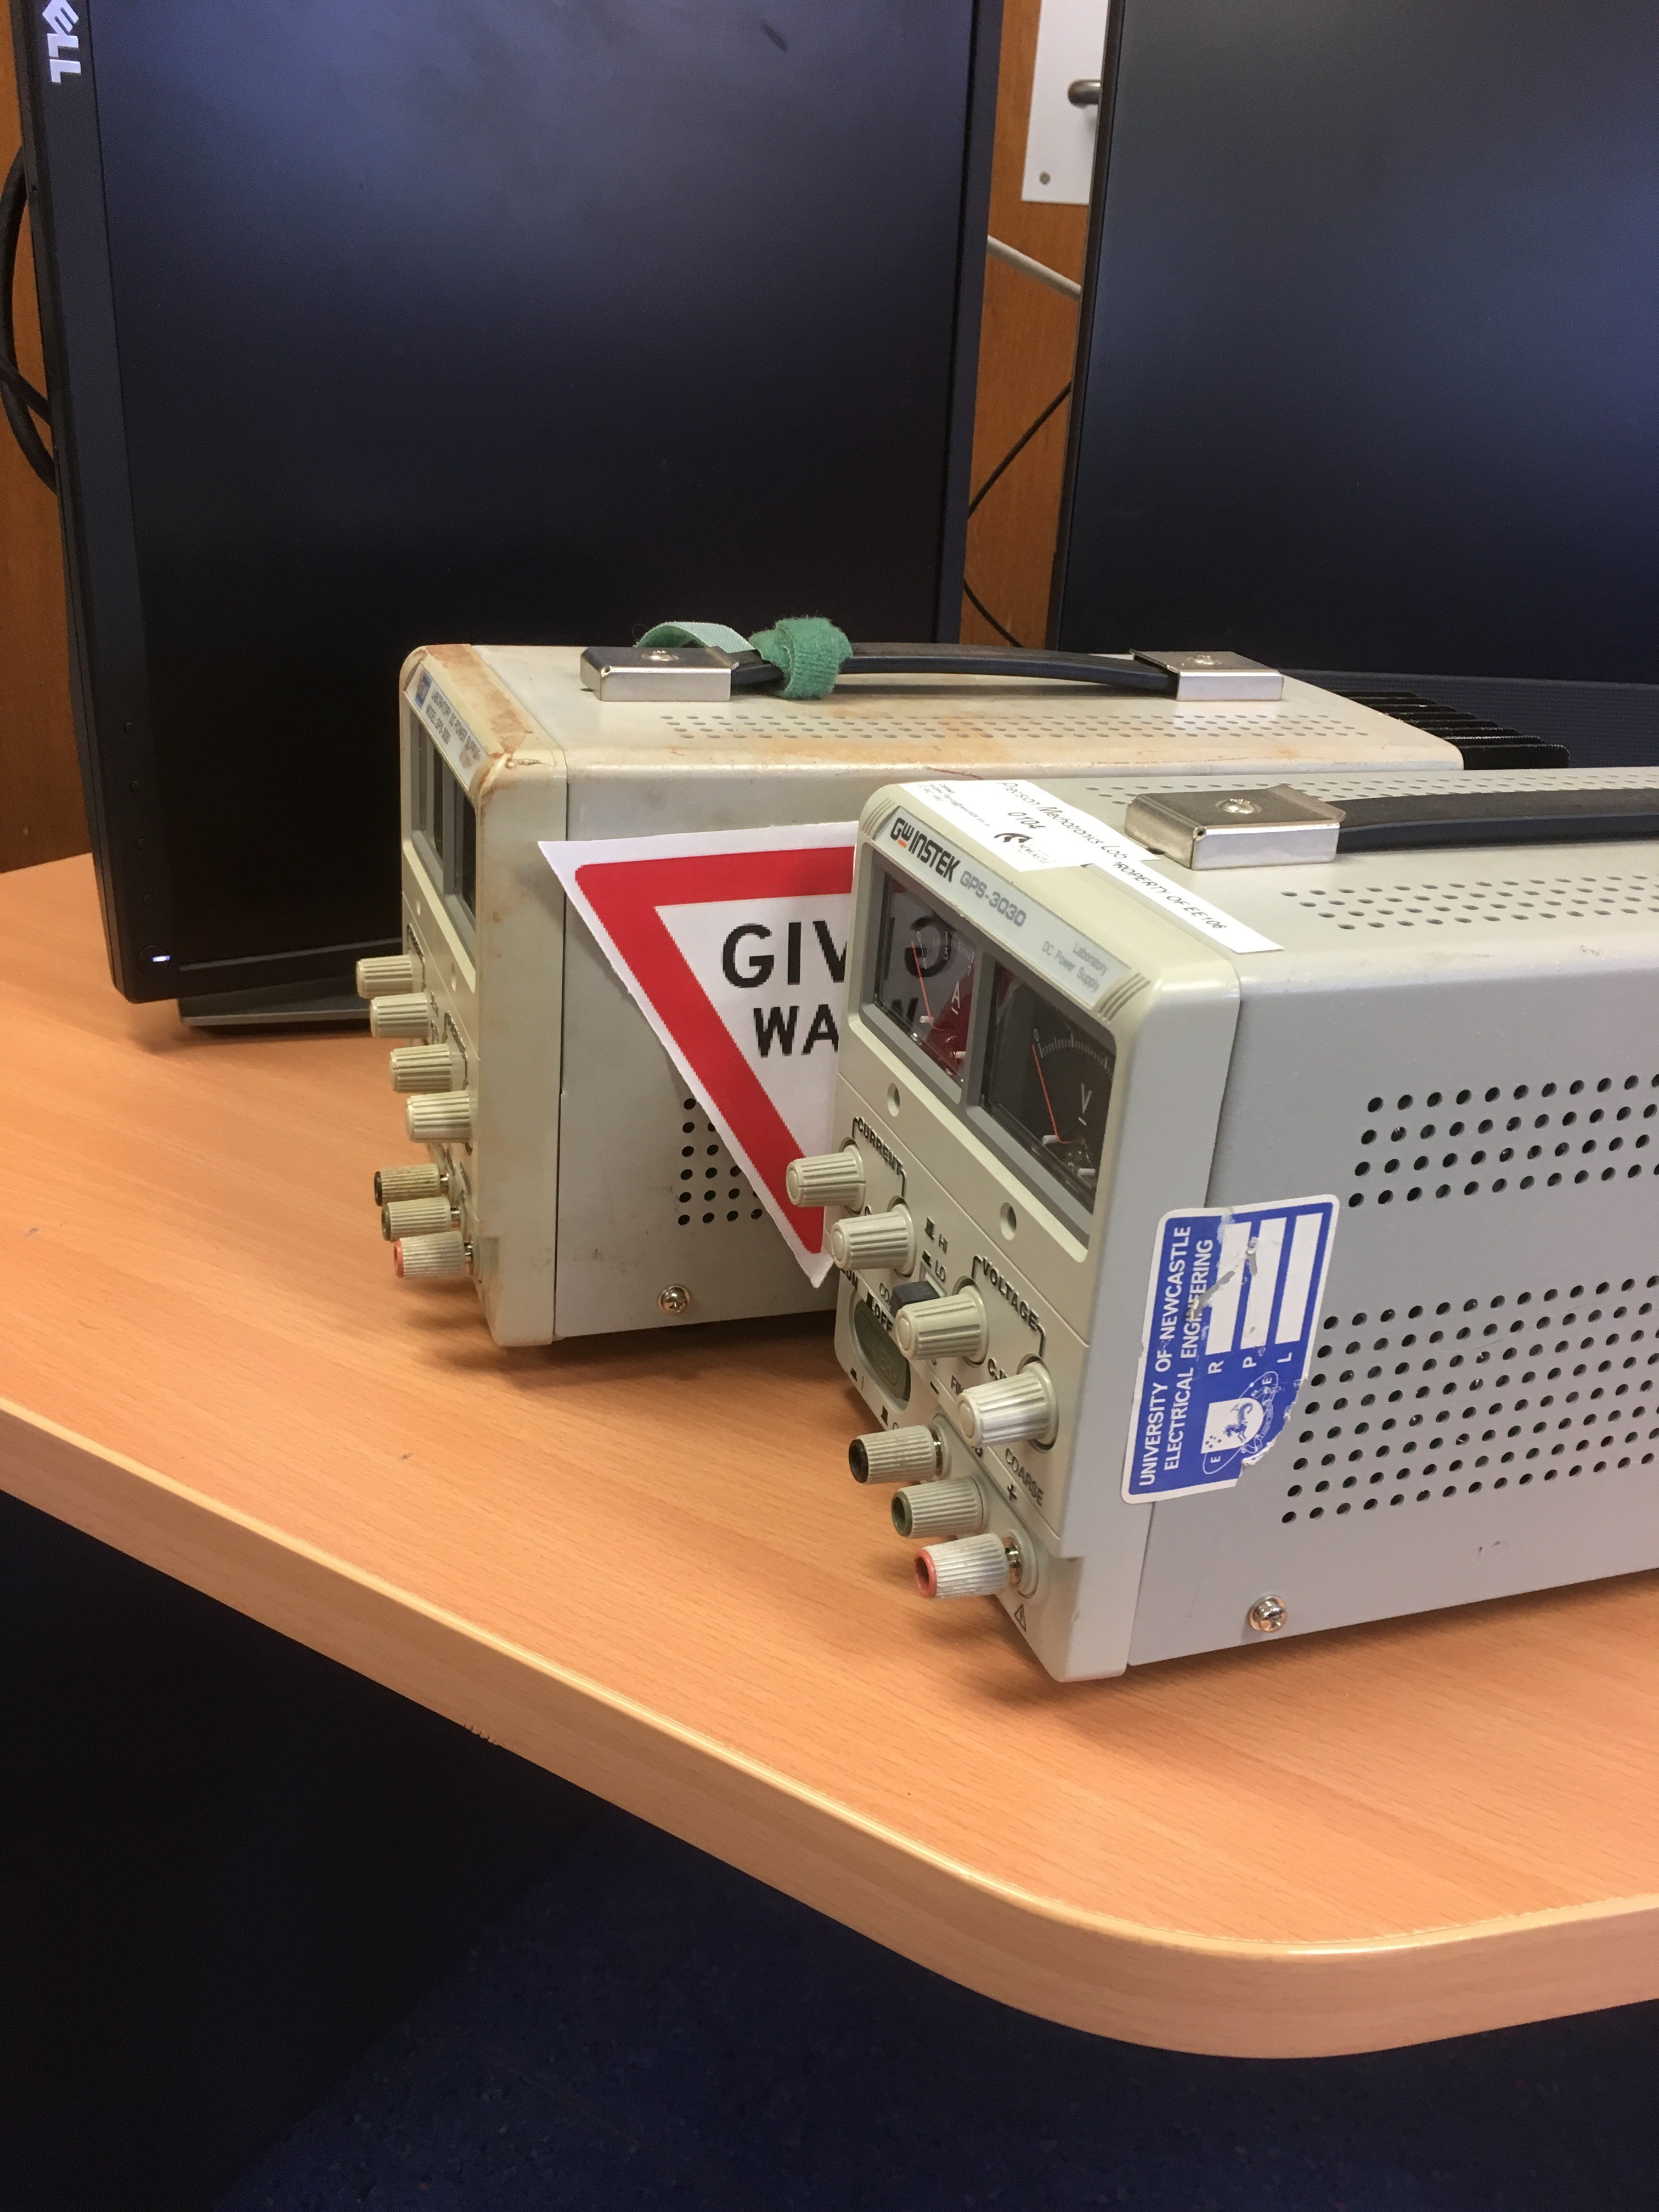giveway: (535, 836, 892, 1338), (587, 836, 852, 1301), (652, 843, 873, 1087)
